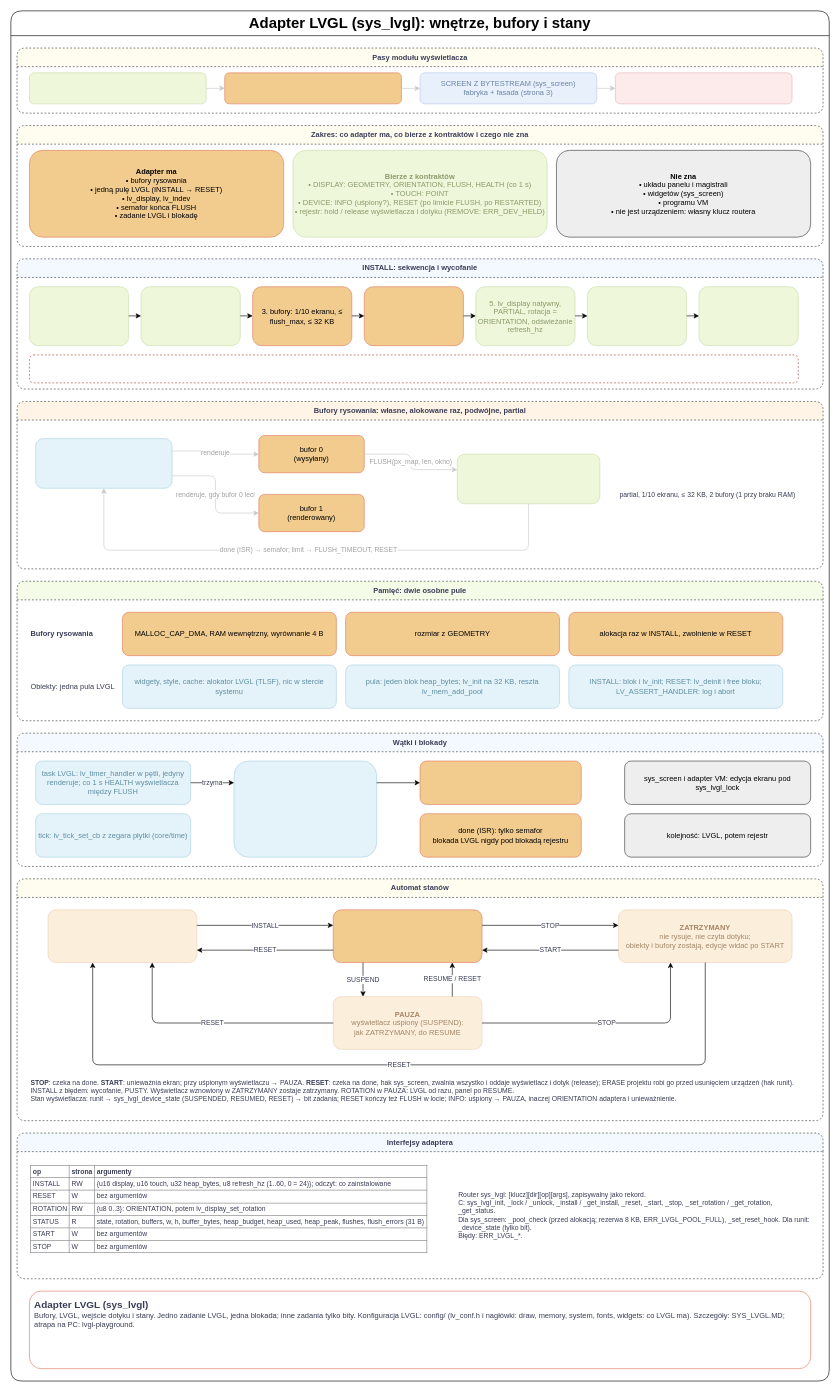
This 840x1392 diagram has some shape labels left out. The centre of each missing label's shape, as x and y in pixels:
"1. GEOMETRY, ORIENTATION (inaczej NOT_DISPLAY); format → LVGL (inaczej FORMAT)" goes at point (79, 316).
"2. POINT dotyku albo NONE (inaczej NOT_TOUCH); hold obu (REMOVE odmówiony)" goes at point (190, 316).
"4. pula LVGL = heap_bytes, lv_init na niej" goes at point (413, 316).
"6. lv_indev (pointer) na tym wyświetlaczu" goes at point (637, 316).
"7. RUNNING; podświetlenia nie dotyka" goes at point (748, 316).
"Adapter dla VM obserwator (strona 4)" goes at point (703, 88).
"Adapter LVGL (sys_lvgl) adapter sprzętowy: ta strona" goes at point (312, 88).
"BLOKADA LVGL sys_lvgl_lock / unlock: własny mutex (LV_OS_NONE)" goes at point (305, 808).
"błąd kroku → wycofanie, ERR_LVGL_*" goes at point (413, 368).
"DZIAŁA renderuje, czyta dotyk" goes at point (407, 936).
"flush_cb: blokada LVGL → blokada rejestru" goes at point (500, 782).
"LVGL: renderuje fragment ekranu (tryb partial)" goes at point (103, 463).
"PUSTY LVGL nie działa, żadnej pamięci" goes at point (122, 936).
"sterownik: jeden FLUSH w locie" goes at point (528, 479).
"WYŚWIETLACZ + DOTYK kontrakty i sterowniki (strona 1)" goes at point (117, 88).
